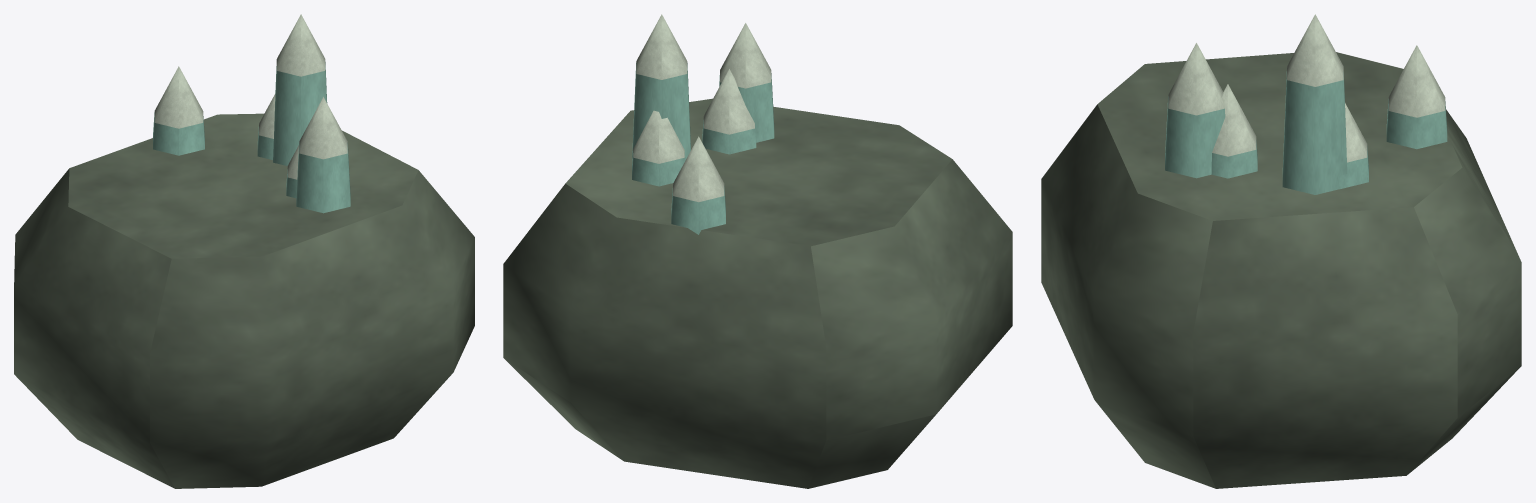
The model's file is ring-glow-quartz-vein-0.fbx.
The picture shows the model from 3 angles, left to right: view 1: azimuth 30°, elevation 25°; view 2: azimuth 150°, elevation 25°; view 3: azimuth 270°, elevation 25°; orthographic projection. The views are drawn at different scales.
Visible parts, largest first — view 1: ring-glow-quartz-vein-0__Geometry; view 2: ring-glow-quartz-vein-0__Geometry; view 3: ring-glow-quartz-vein-0__Geometry.
Boxes of the visible parts, x1,y1,x2,y2 form: ring-glow-quartz-vein-0__Geometry: (14,14,474,488); ring-glow-quartz-vein-0__Geometry: (503,14,1012,488); ring-glow-quartz-vein-0__Geometry: (1041,14,1521,488).
Size of the model in its own units: 0.8133 by 0.7389 by 0.7349.
